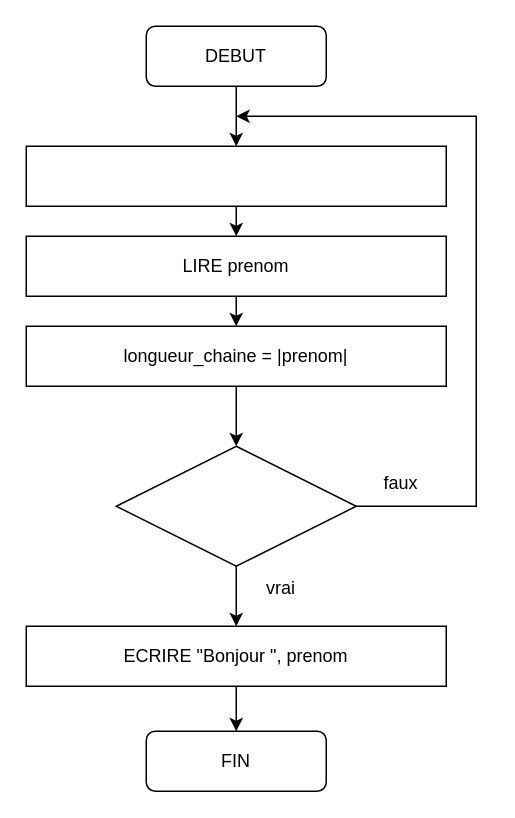
The diagram is 515 pixels wide and 818 high, and some of its shapes have lost their labels. Each missing label, with the box of its shape:
ECRIRE "Veuillez saisir votre prénom : ": (25, 145, 446, 206)
longueur_chaine >= 2: (115, 445, 356, 566)
